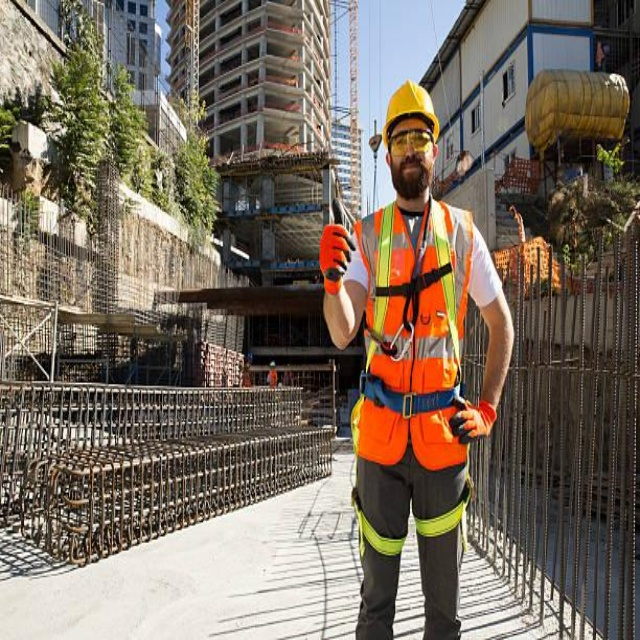Arnes_seguridad: (352, 197, 477, 559)
